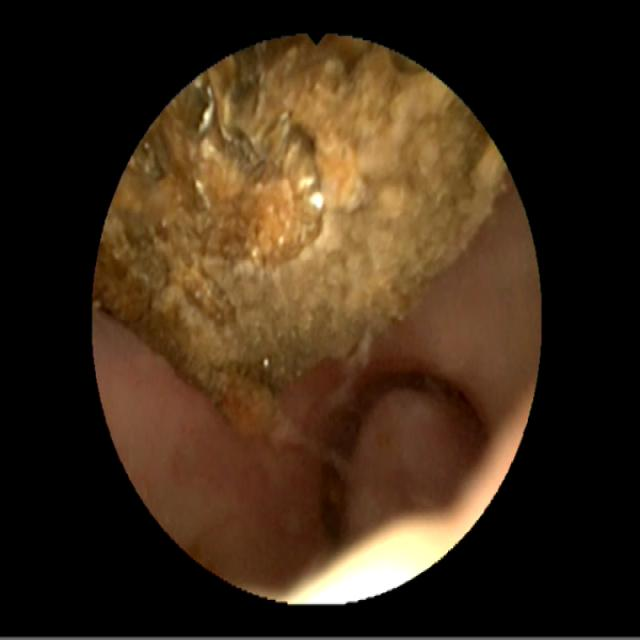stone: (101, 41, 506, 434)
tissue: (97, 188, 529, 599)
